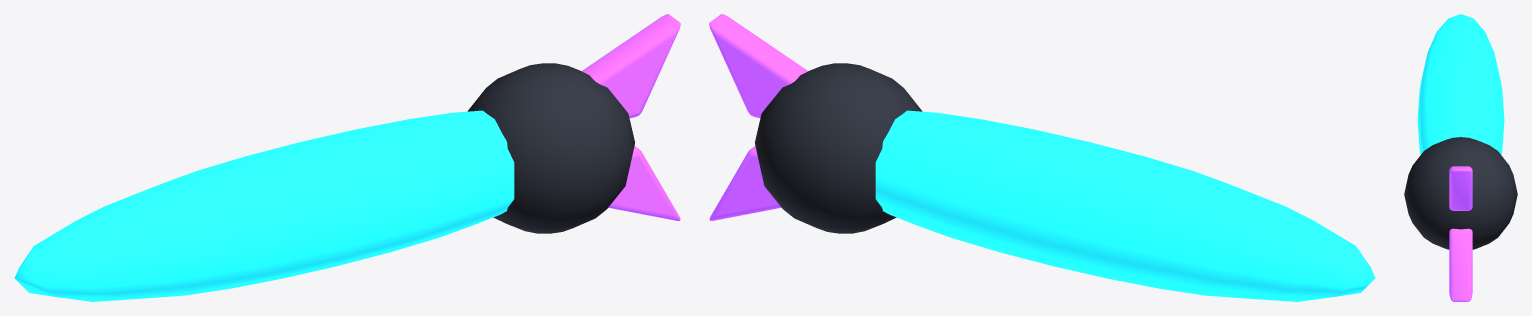
Rendered from alien_bolt.glb.
3 views of the same model, side by side, from view 1: azimuth 30°, elevation 25°; view 2: azimuth 150°, elevation 25°; view 3: azimuth 270°, elevation 25° (orthographic). The views are drawn at different scales.
Parts seen in each view (by area): view 1: AlienControlDeviceGeometry; view 2: AlienControlDeviceGeometry; view 3: AlienControlDeviceGeometry.
Boxes of the visible parts, x1,y1,x2,y2 form: AlienControlDeviceGeometry: (14,14,680,301); AlienControlDeviceGeometry: (709,14,1375,301); AlienControlDeviceGeometry: (1404,14,1517,301).
Bounding box in the file's own units: 0.6081 × 0.1747 × 0.136.
